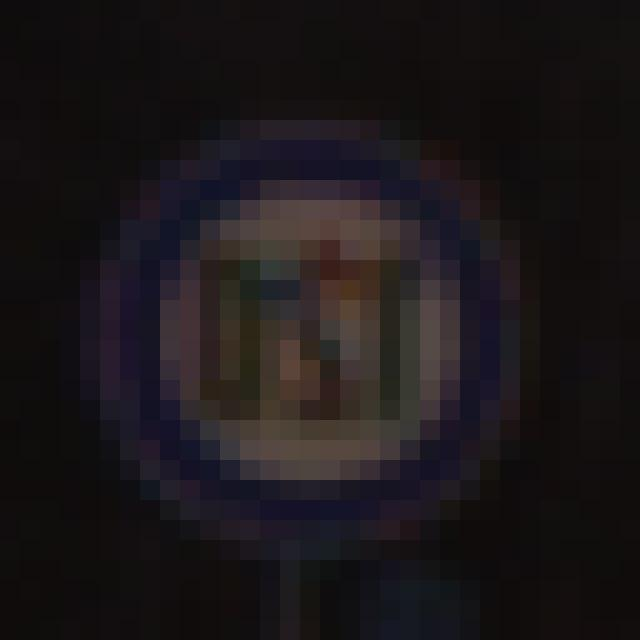SPEED LIMIT 120: (79, 143, 527, 532)
